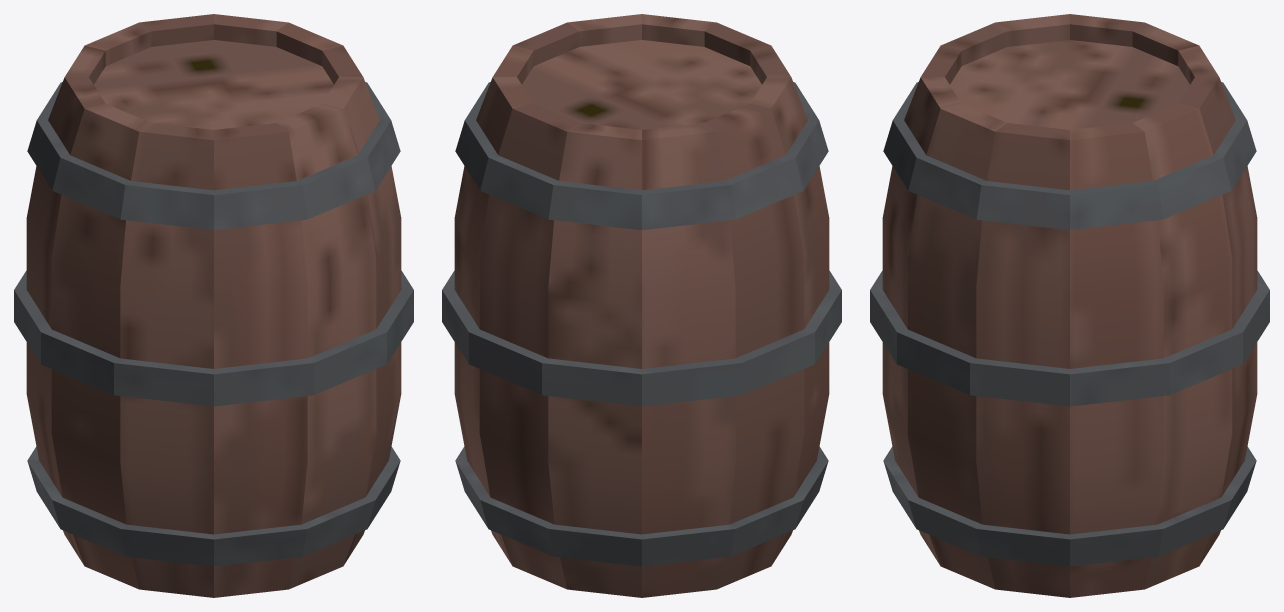
Rendered from barrel1.fbx.
3 views of the same model, side by side, from view 1: azimuth 30°, elevation 25°; view 2: azimuth 150°, elevation 25°; view 3: azimuth 270°, elevation 25° (orthographic).
Parts seen in each view (by area): view 1: Barrel1; view 2: Barrel1; view 3: Barrel1.
Part boxes in pixels (box(x1,y1,x2,y2)): Barrel1: box(14, 14, 413, 597); Barrel1: box(442, 14, 841, 597); Barrel1: box(870, 14, 1269, 597).
Size of the model in its own units: 68.74 by 86.83 by 68.74.
